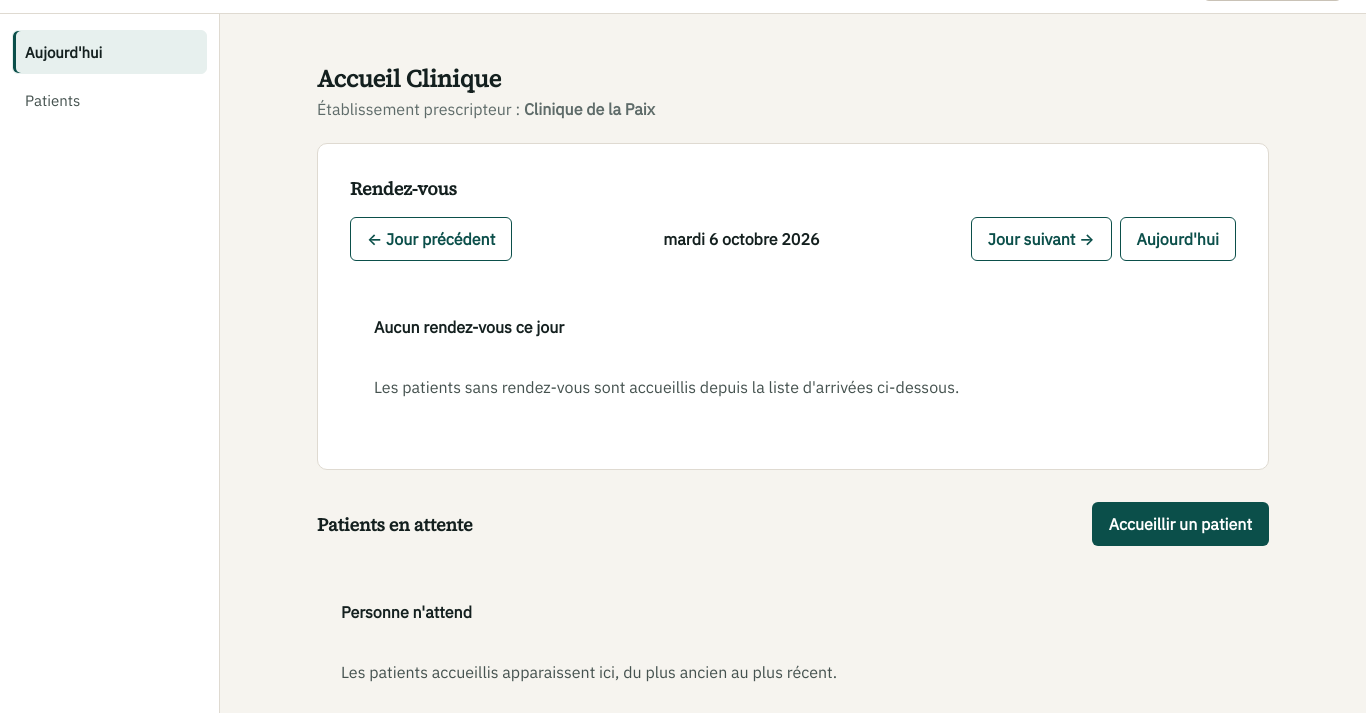
Aujourd'hui — the arrival surface › offers Nouveau patient only to a member who may register one
This screenshot has width=1366, height=713.
Click the button "Accueillir un patient": [1180, 524] box [1092,502,1269,546]
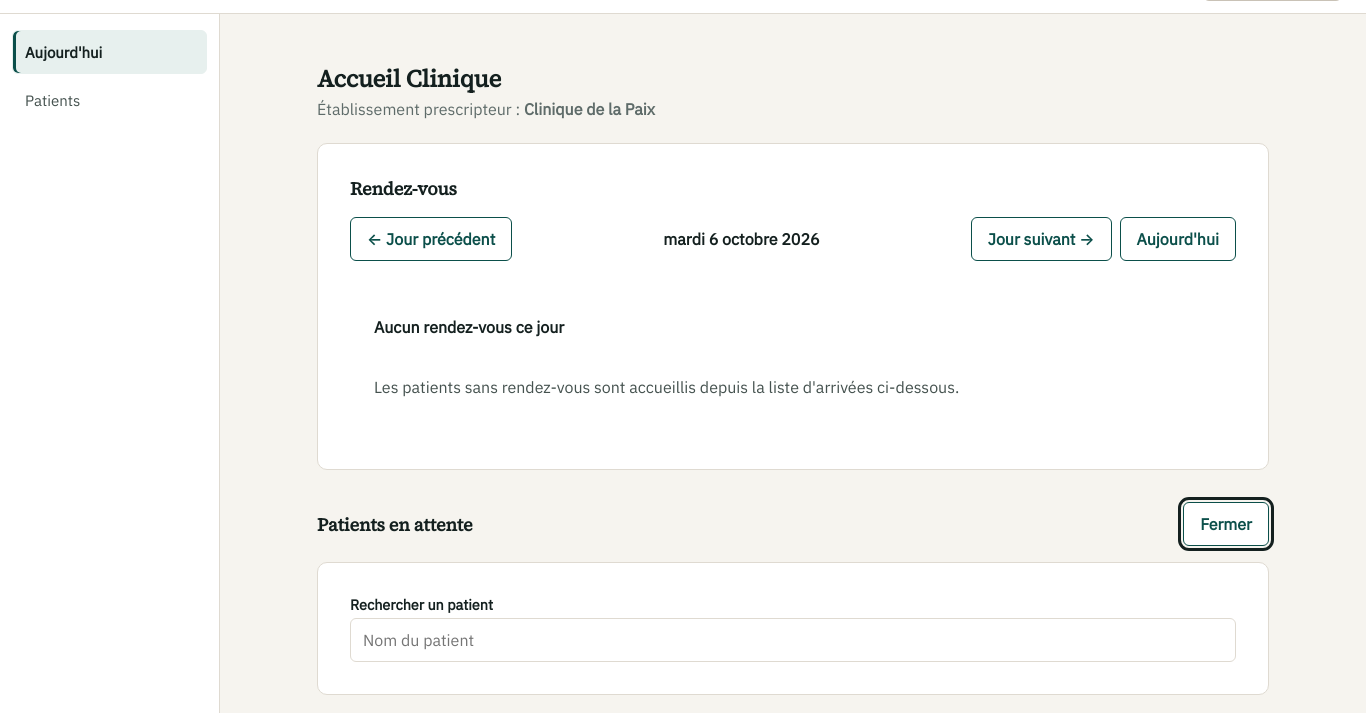
In the search field labelled "Rechercher un patient": [793, 640] box [350,618,1236,662], type "Inconnu"
(page scrolled)
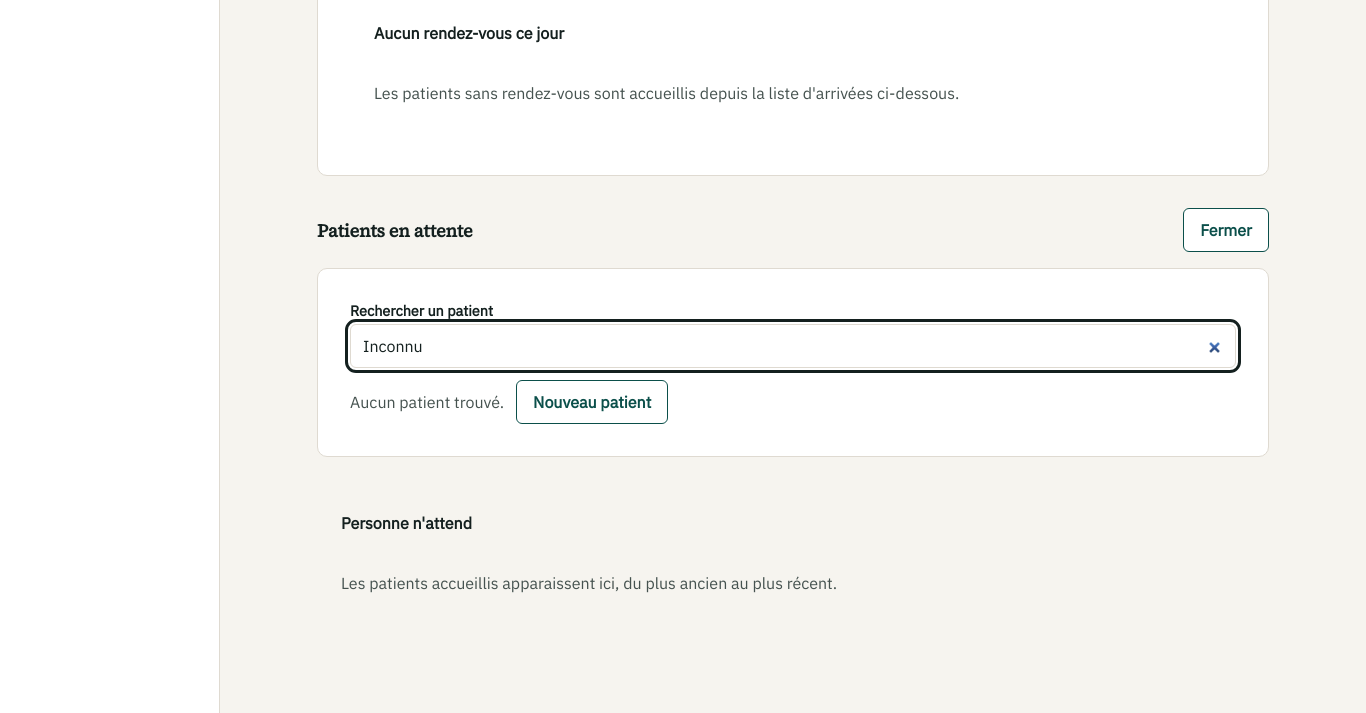
Result: the button "Nouveau patient" is shown at [516,380,668,424]
